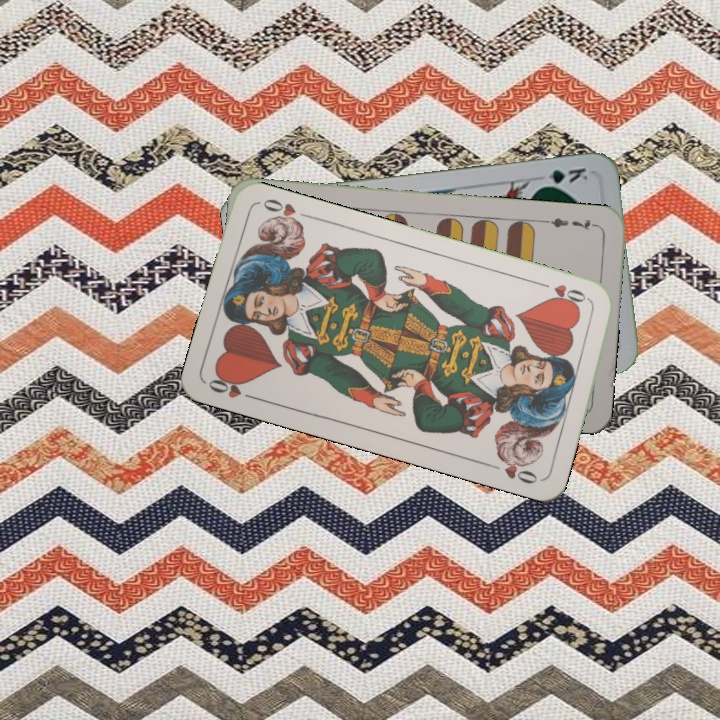E7: (541, 213, 600, 233)
GK: (534, 163, 591, 190)
HO: (204, 370, 262, 403), (535, 278, 593, 310)
